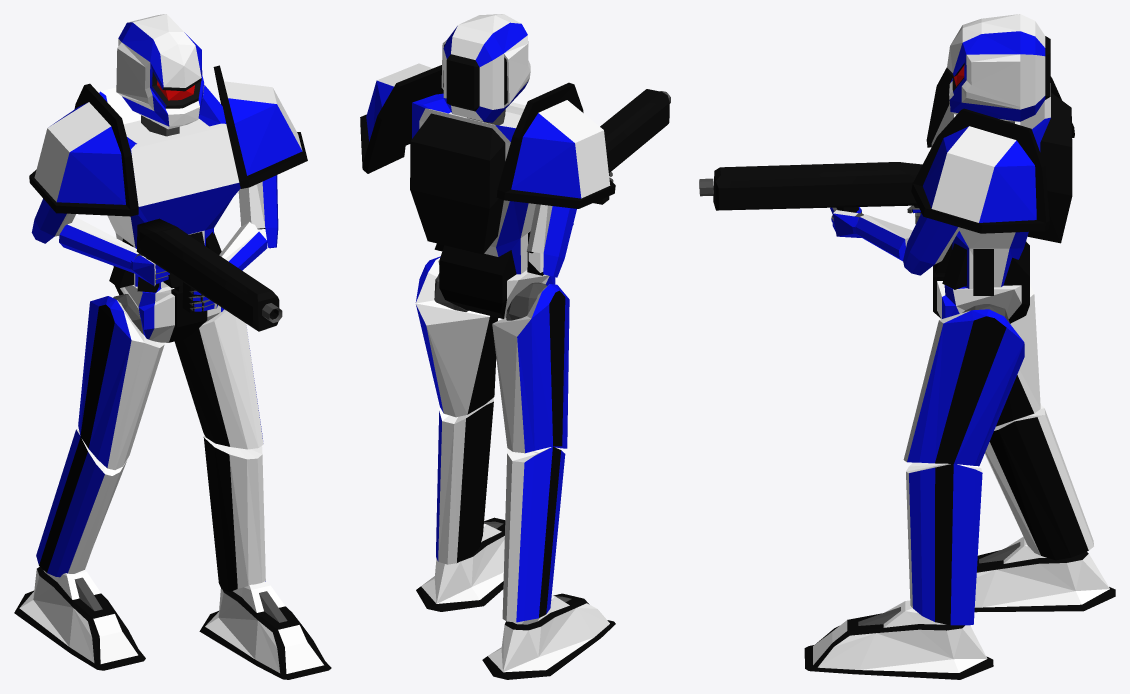
File: robot_animation_000004.obj
The picture shows the model from 3 angles, left to right: view 1: azimuth 30°, elevation 25°; view 2: azimuth 150°, elevation 25°; view 3: azimuth 270°, elevation 25°; orthographic projection. The views are drawn at different scales.
Parts seen in each view (by area): view 1: Chest_plate_Cube.004, Cube.002_Cube.059, R_Thigh_Cube.005, R_Thigh.002_Cube.027, Head_base_Cube.022, R_Shin.002_Cube.029, R_Foot_Cube, R_Foot.002_Cube.035, Cube_Cube.001, R_Shin_Cube.007, Cube_Cube.021, Pelvis_Cube.006 (+5 smaller); view 2: Chest_plate_Cube.004, Cube.002_Cube.059, R_Thigh_Cube.005, R_Shin_Cube.007, Head_base_Cube.022, R_Thigh.002_Cube.027, R_Shin.002_Cube.029, R_Foot_Cube, Cube_Cube.021, Pelvis_Cube.006, R_Foot.002_Cube.035, Cube_Cube.001 (+2 smaller); view 3: Cube_Cube.021, R_Thigh.002_Cube.027, R_Shin.002_Cube.029, R_Foot.002_Cube.035, R_Shin_Cube.007, Head_base_Cube.022, Cube_Cube.001, Chest_plate_Cube.004, R_Foot_Cube, Pelvis_Cube.006, R_Thigh_Cube.005, L_Arm_Cube.014 (+3 smaller).
Boxes of the visible parts, x1,y1,x2,y2 form: Chest_plate_Cube.004: (99,85,240,292); Cube.002_Cube.059: (29,83,138,216); R_Thigh_Cube.005: (78,296,164,469); R_Thigh.002_Cube.027: (174,309,263,449); Head_base_Cube.022: (116,14,204,129); R_Shin.002_Cube.029: (203,436,265,592); R_Foot_Cube: (14,567,145,670); R_Foot.002_Cube.035: (199,581,331,679); Cube_Cube.001: (136,218,282,331); R_Shin_Cube.007: (36,429,127,577); Cube_Cube.021: (213,65,307,188); Pelvis_Cube.006: (113,266,224,342); Chest_plate_Cube.004: (410,93,543,275); Cube.002_Cube.059: (496,82,615,208); R_Thigh_Cube.005: (492,284,569,453); R_Shin_Cube.007: (502,446,565,622); Head_base_Cube.022: (441,14,530,122); R_Thigh.002_Cube.027: (415,256,498,417); R_Shin.002_Cube.029: (436,398,493,564); R_Foot_Cube: (482,593,615,679); Cube_Cube.021: (360,63,443,173); Pelvis_Cube.006: (438,245,555,319); R_Foot.002_Cube.035: (416,517,505,611); Cube_Cube.001: (593,89,670,204); Cube_Cube.021: (911,108,1049,233); R_Thigh.002_Cube.027: (903,309,1024,466); R_Shin.002_Cube.029: (906,462,982,625); R_Foot.002_Cube.035: (804,600,993,679); R_Shin_Cube.007: (984,405,1093,560); Head_base_Cube.022: (947,14,1050,121); Cube_Cube.001: (699,162,922,213); Chest_plate_Cube.004: (931,83,1072,295); R_Foot_Cube: (974,536,1115,612); Pelvis_Cube.006: (933,241,1029,323); R_Thigh_Cube.005: (996,284,1040,426); L_Arm_Cube.014: (903,213,960,275).
Size of the model in its own units: 1.32 by 3.03 by 1.86.
